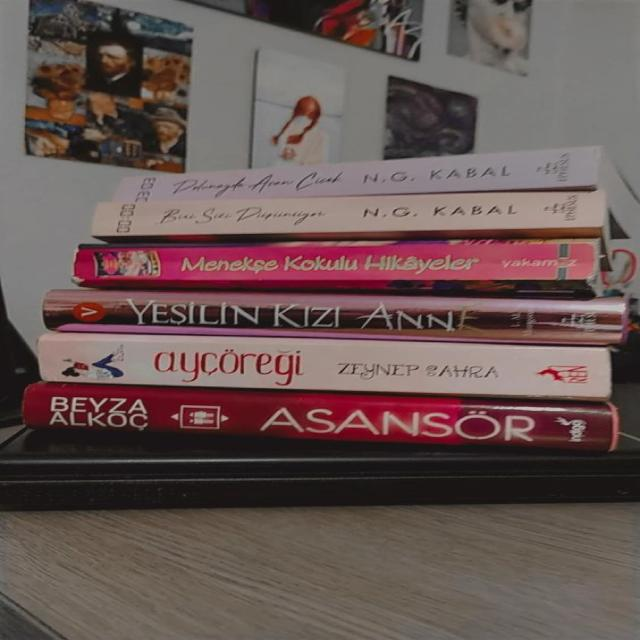book: (26, 386, 613, 453), (38, 336, 610, 399), (44, 291, 630, 346), (109, 146, 600, 202), (89, 189, 610, 236), (68, 241, 596, 284)
